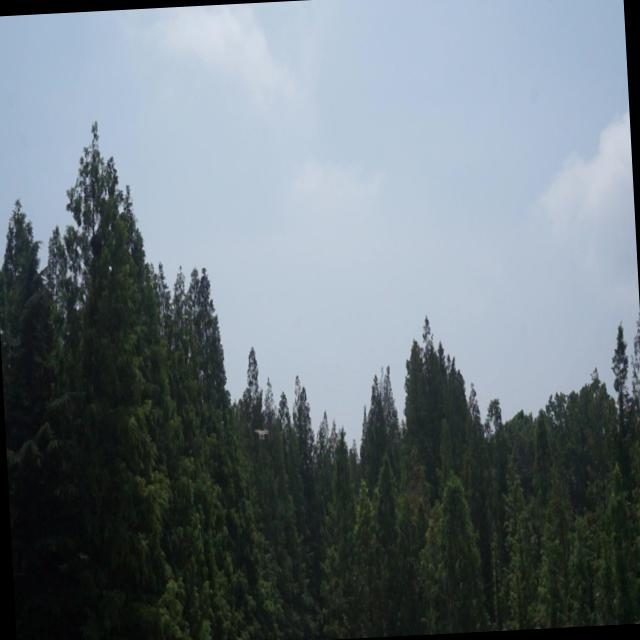drone: (249, 422, 273, 448)
